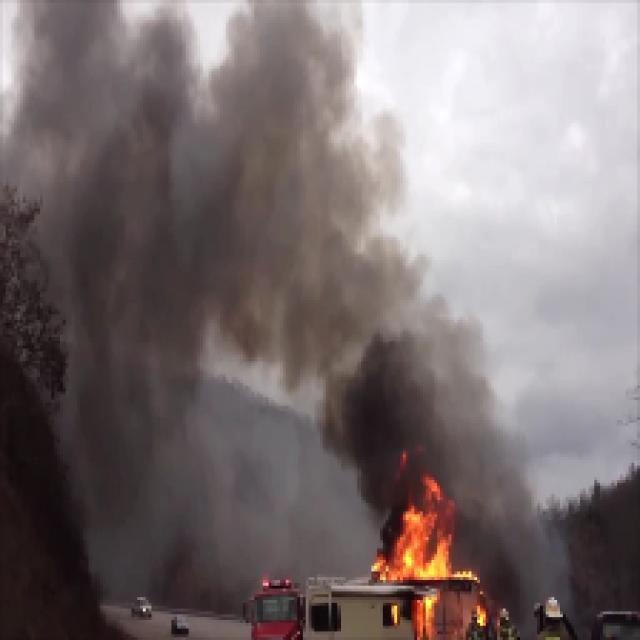smoke: (56, 18, 338, 329), (361, 304, 495, 468)
